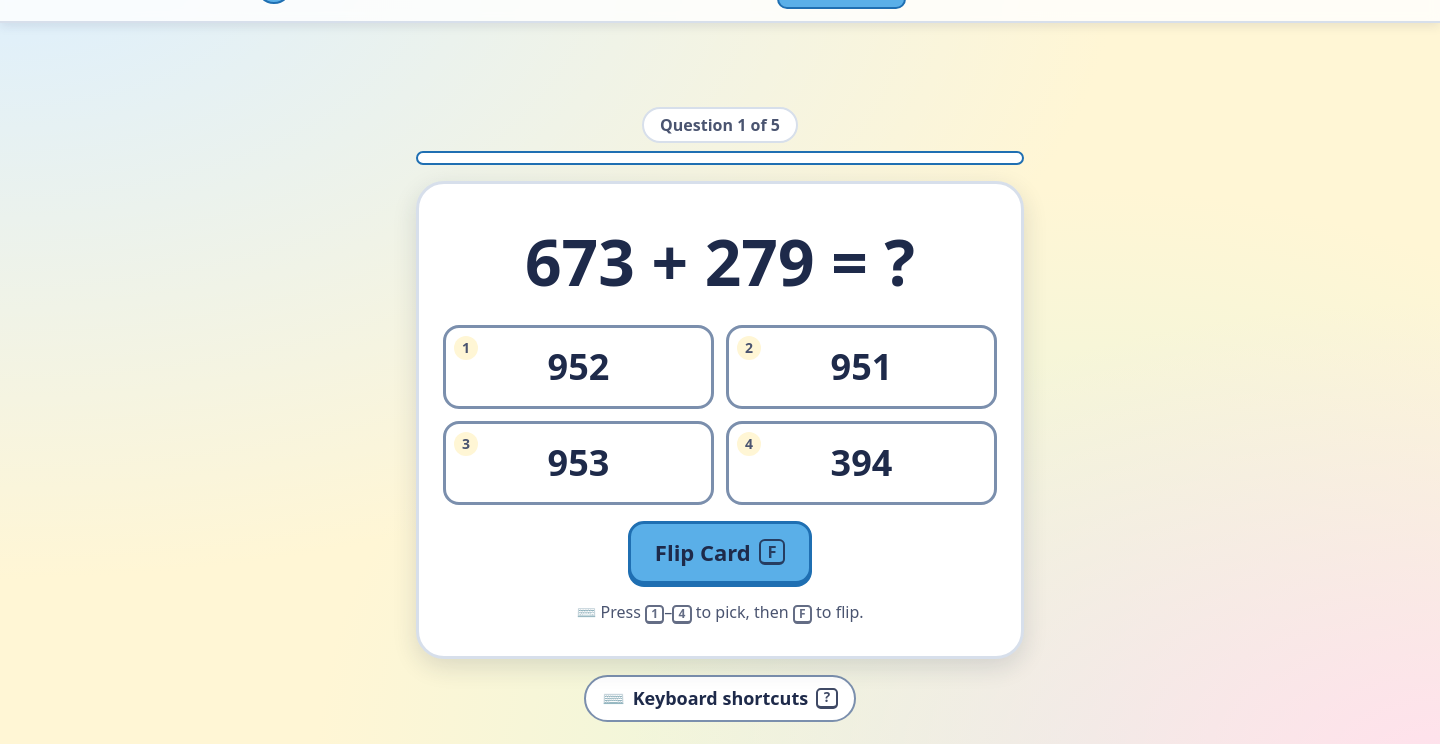
Test: 1. several difficulty levels › the summary and recent sessions list every chosen level
Type keys "1fr"
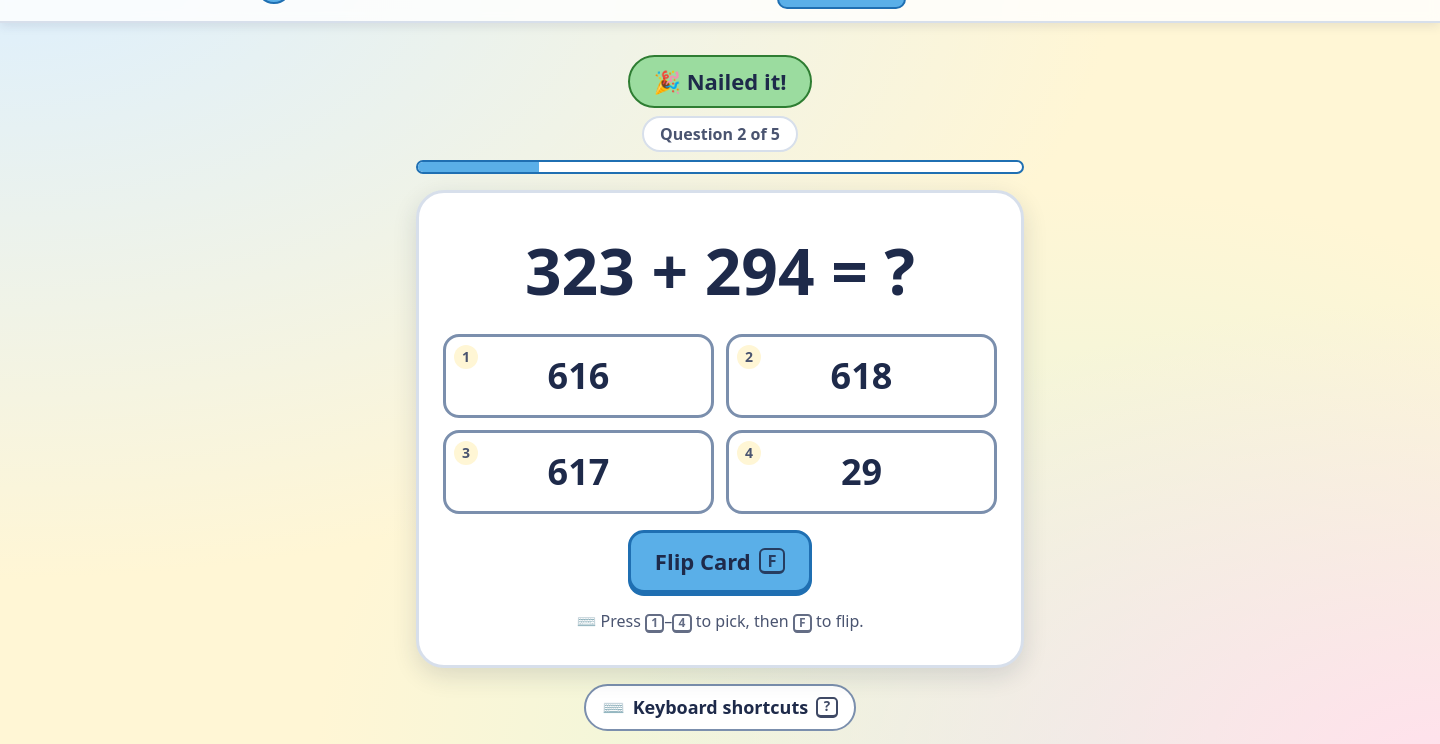
Type keys "1fr"
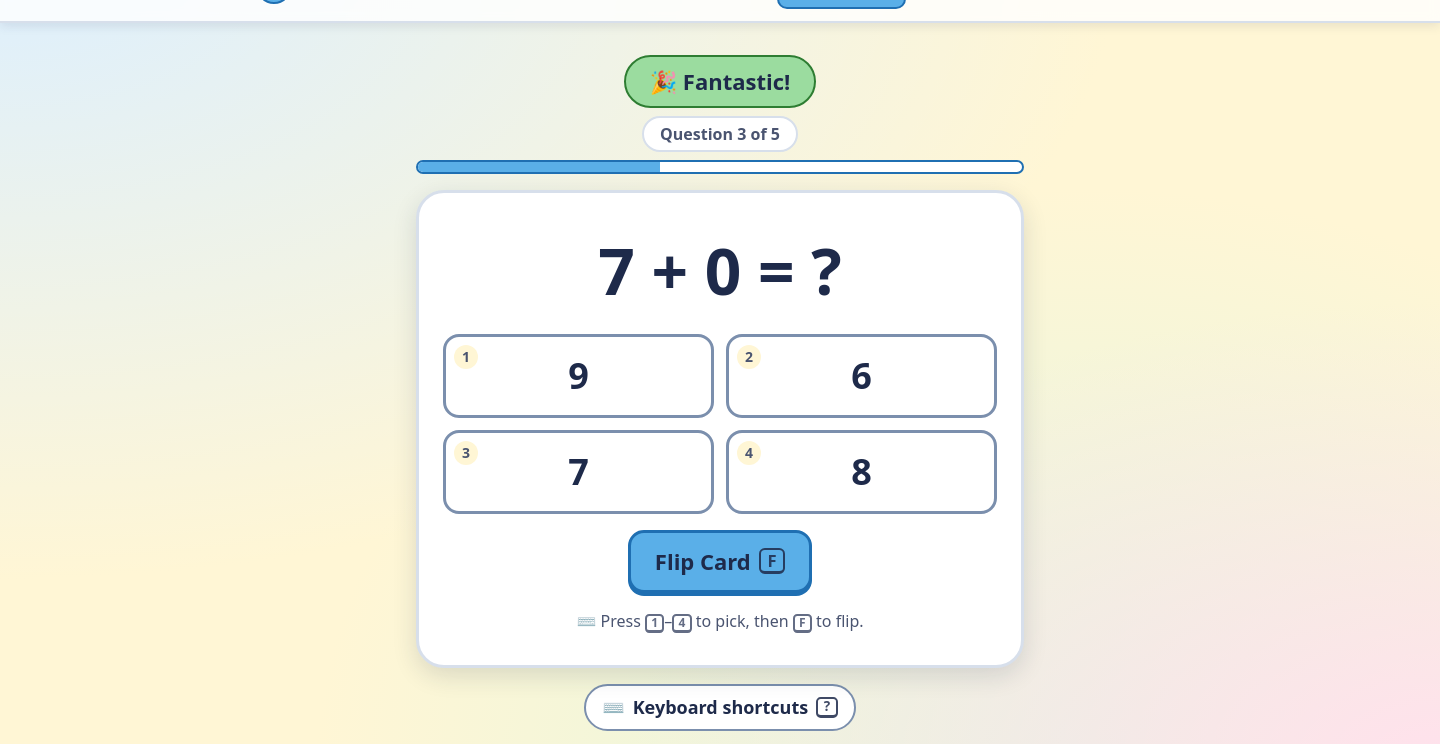
Type keys "1fr"
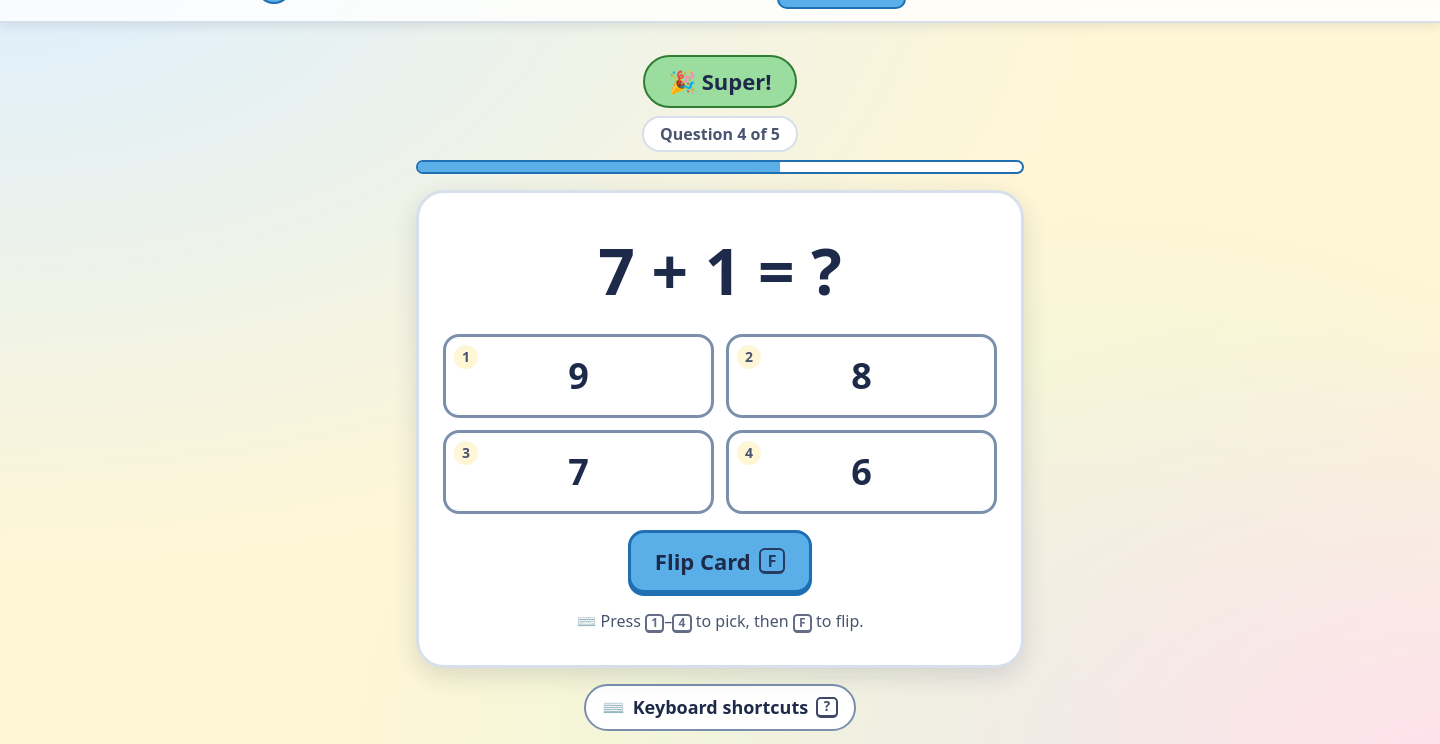
Type keys "1fr"
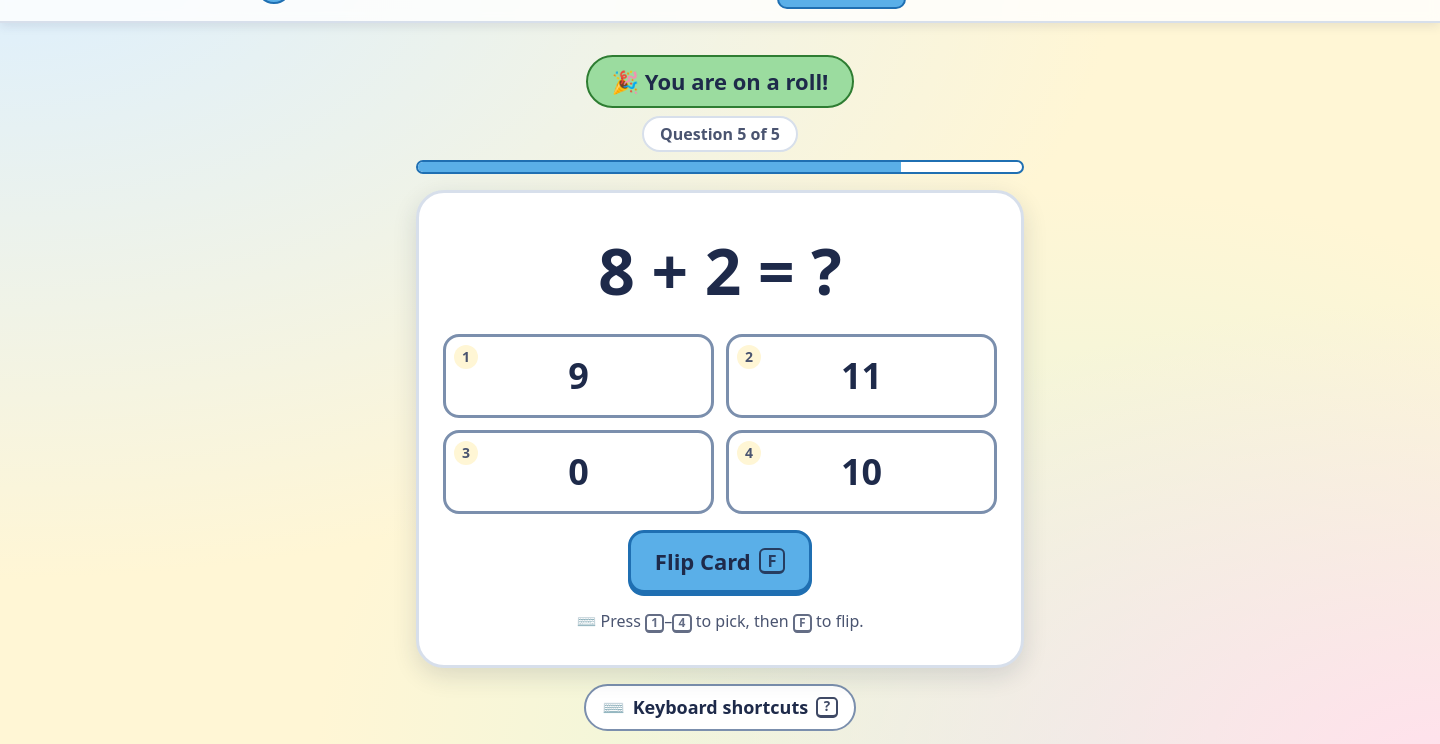
Type keys "1fr"
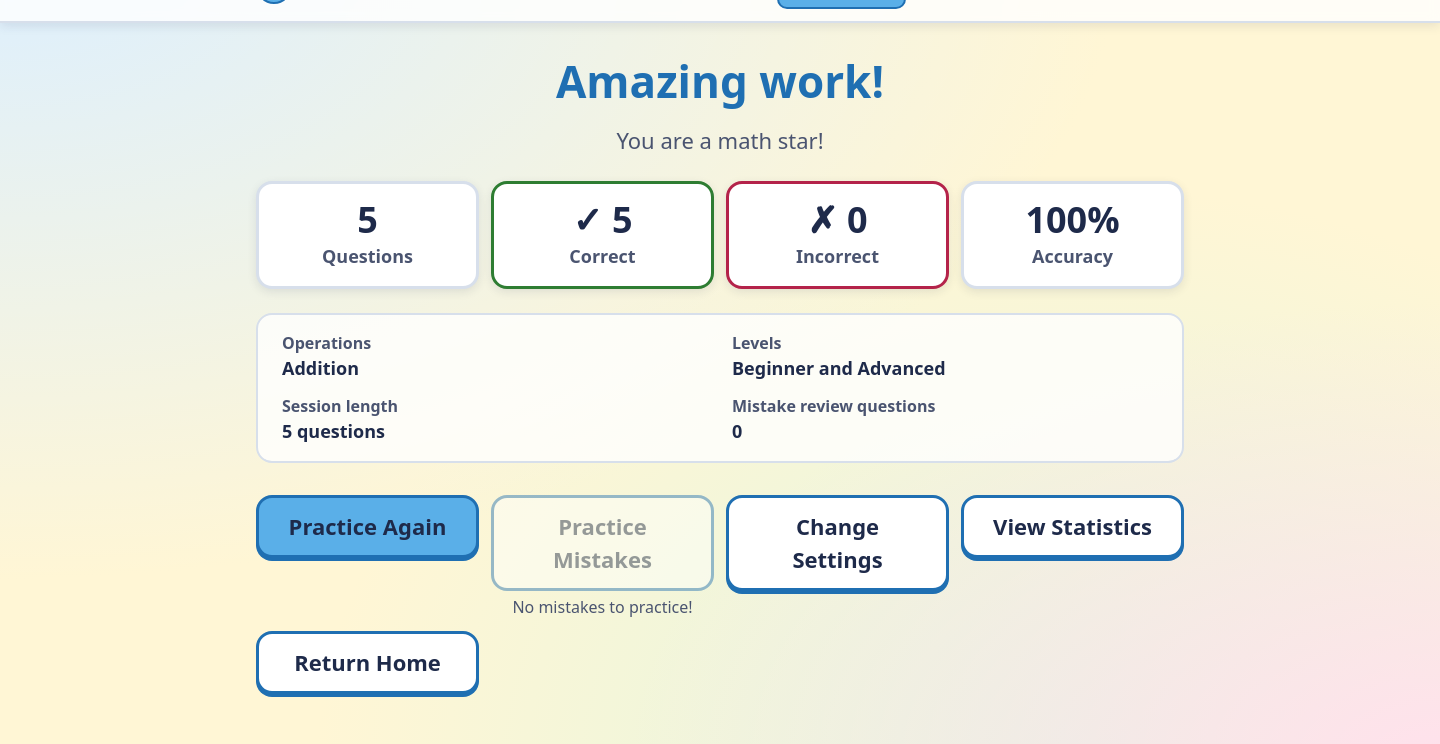
expect the text "Beginner and Advanced" is shown: met, box [732, 356, 946, 380]
Click the link "View Statistics": (1072, 527) [961, 495, 1184, 558]
(page scrolled)
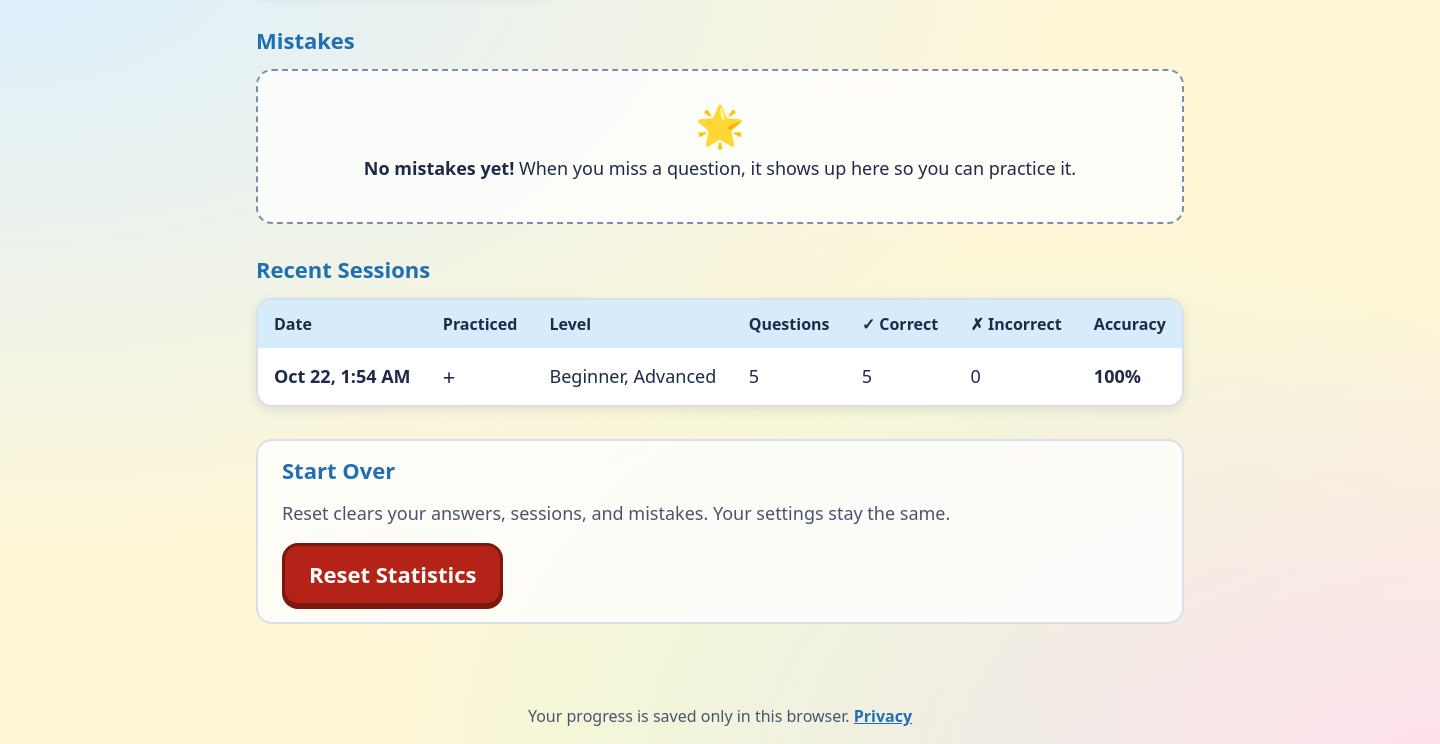
expect the row "Oct 22, 1:54 AM + Beginner, Advanced 5 5 0 100%" is shown: met, box [258, 348, 1182, 405]
